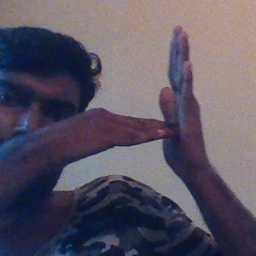Z: (111, 23, 208, 180)
